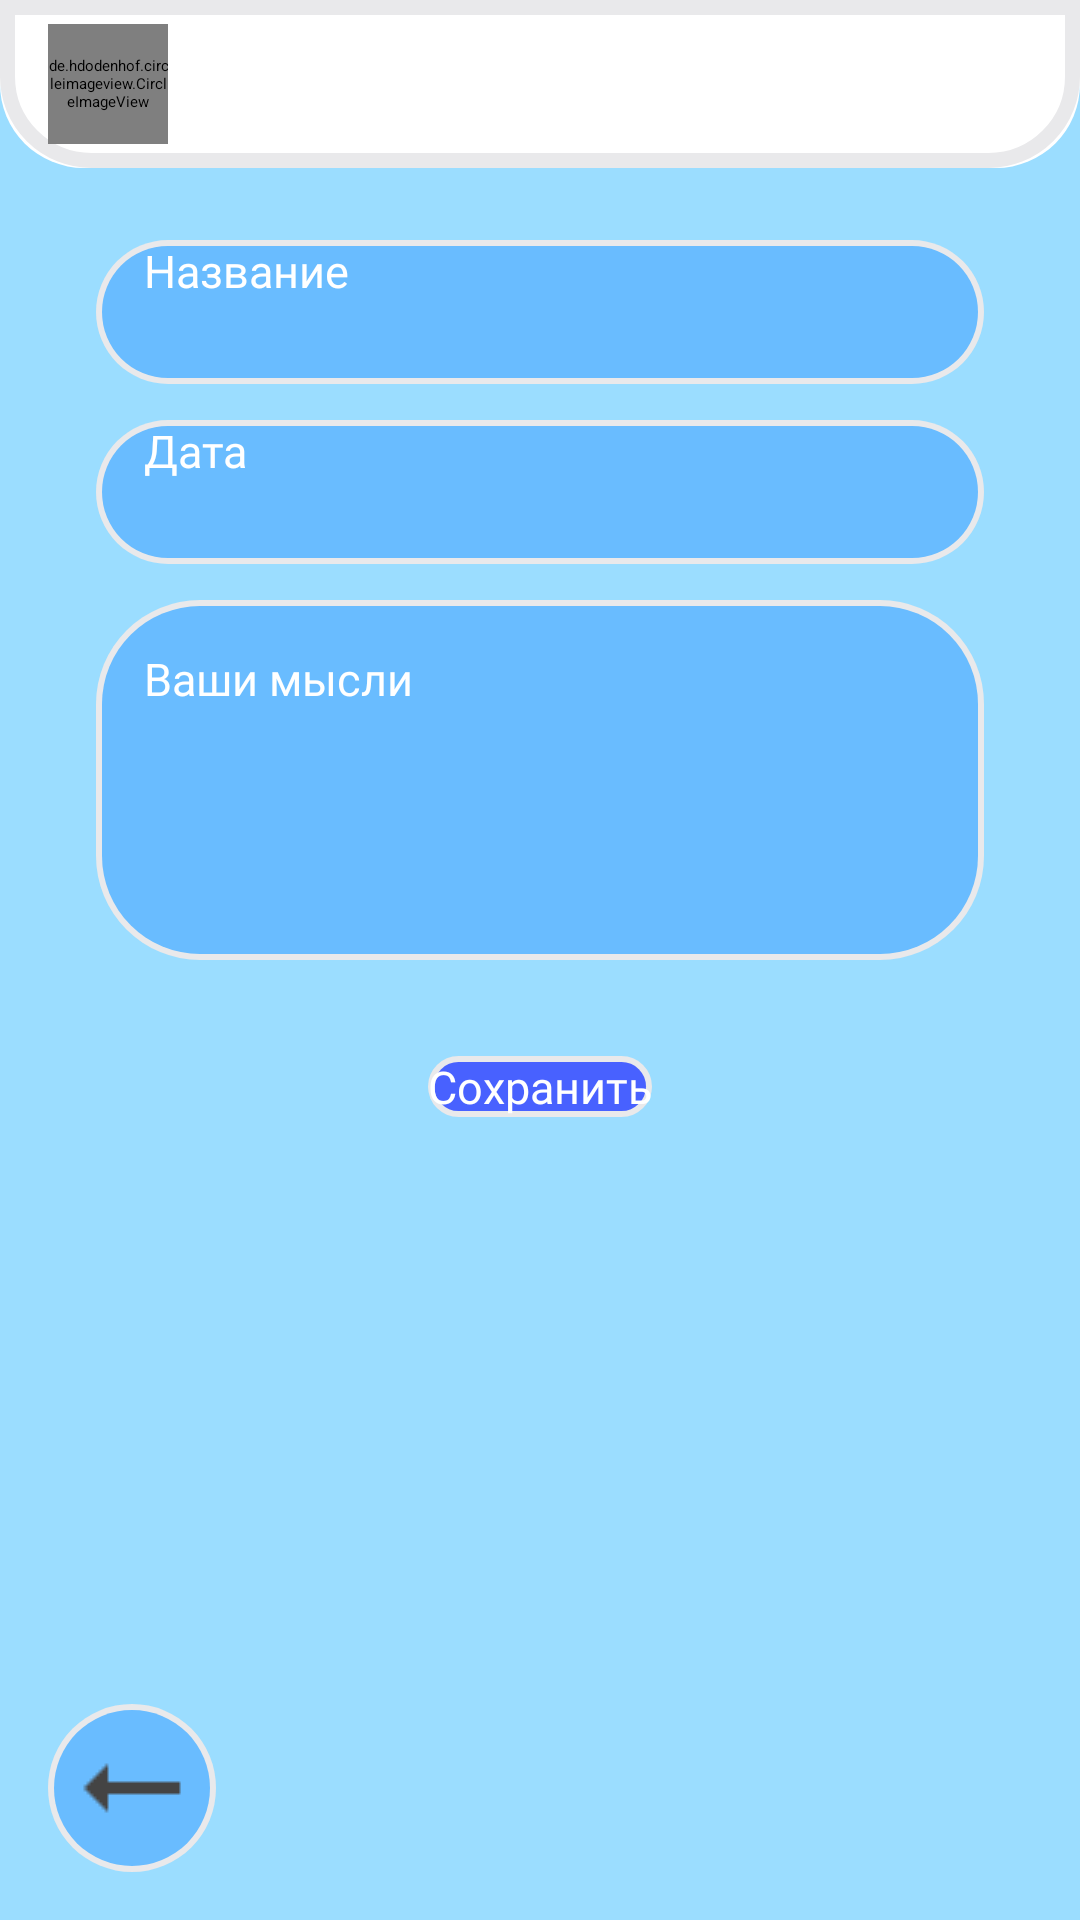

Point at icon controls on the screen. Image size 1080 x 1920, points as (x=x, y=y).
back: (x=132, y=1788)
